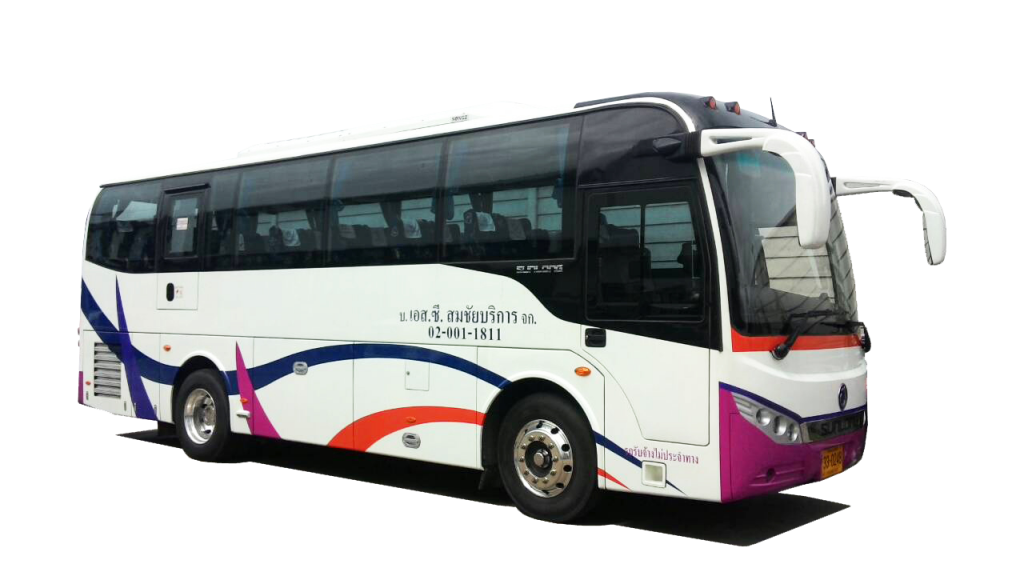bus: (77, 90, 874, 521)
